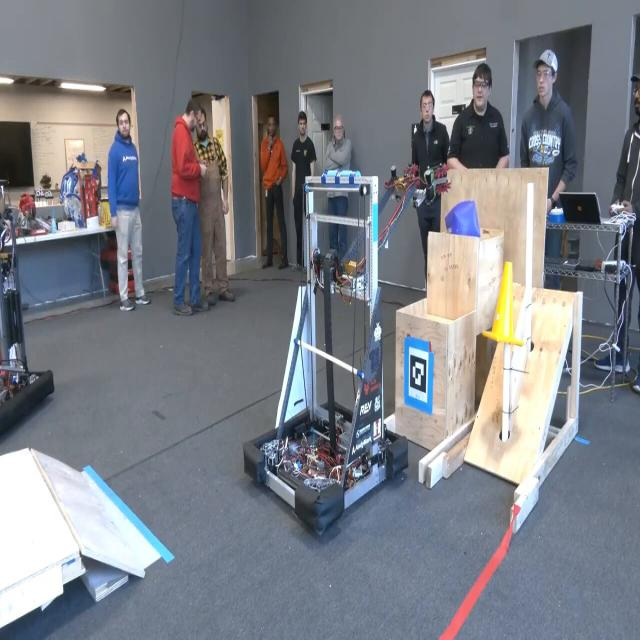frc_cone: (489, 249, 528, 351)
frc_cube: (442, 198, 482, 244)
